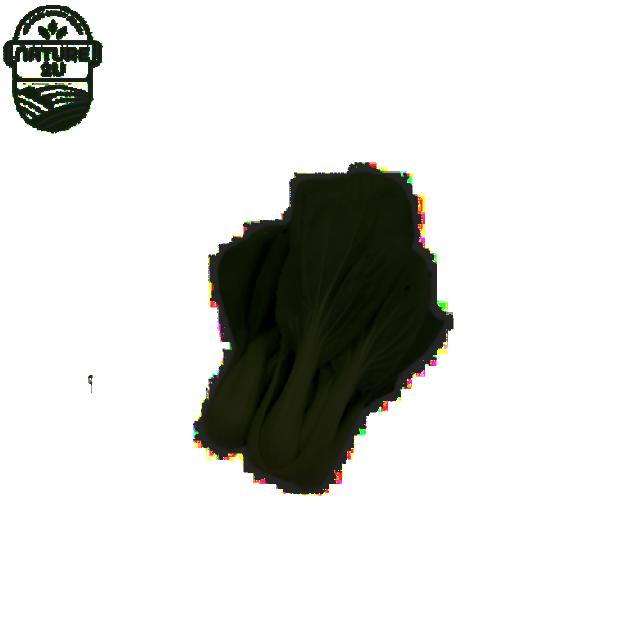chinese_cabbage: (188, 177, 461, 490)
